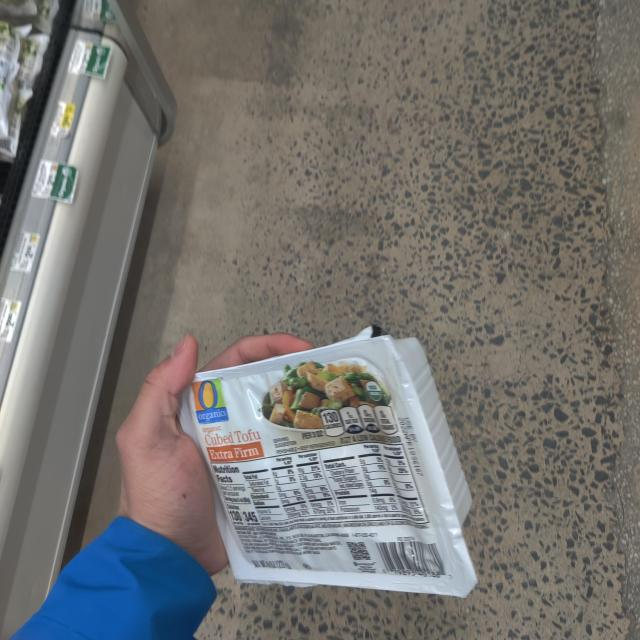Tofu: (165, 343, 511, 600)
